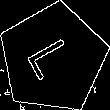L_NE: (23, 33, 82, 84)
